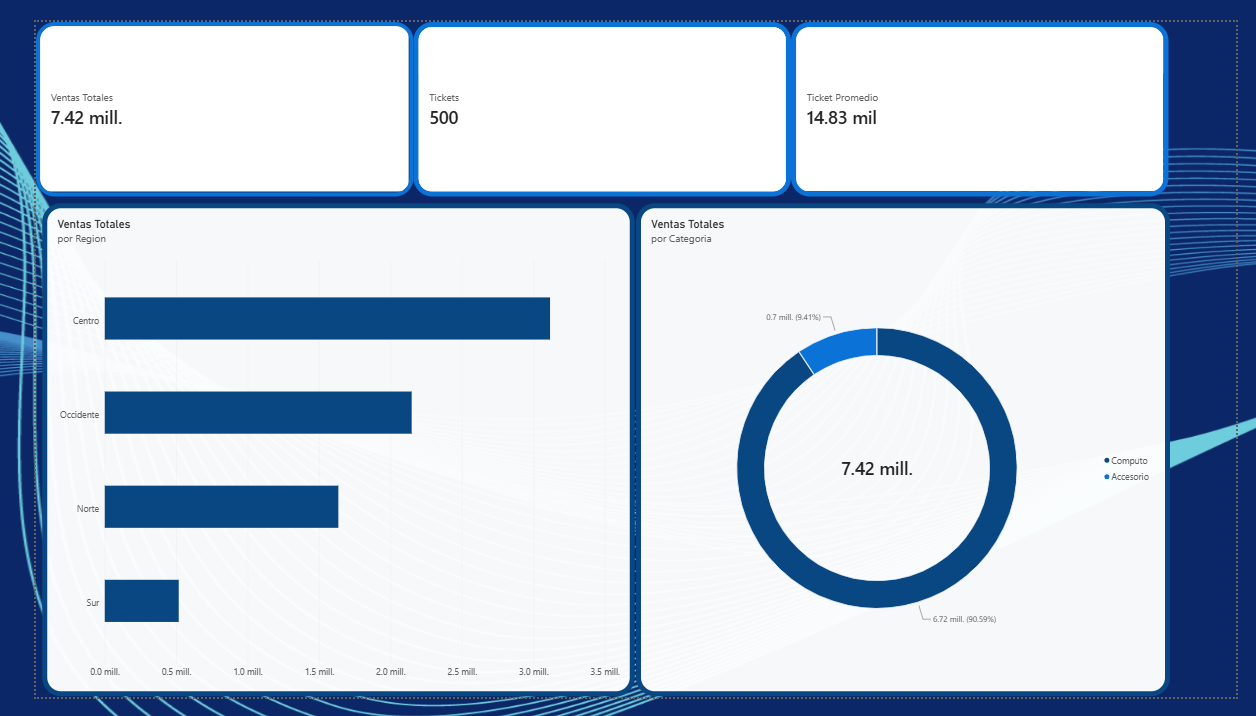

The page's visual inventory and layout, read from the dashboard file:
{"tool":"powerbi","page":{"name":"Resumen Ejecutivo","canvas":[1920,1080],"ordinal":0},"visuals":[{"type":"cardVisual","fields":{"Data":["hechos_ventas.Ventas Totales"]},"box":[0,0,604.3,279.4],"z":0},{"type":"cardVisual","title":"V","fields":{"Data":["hechos_ventas.Tickets"]},"box":[604.4,0,604.3,279.4],"z":1000},{"type":"cardVisual","fields":{"Data":["hechos_ventas.Ticket Promedio"]},"box":[1208.9,0,604.3,279.4],"z":2000},{"type":"barChart","fields":{"Category":["dim_cliente.Region"],"Y":["hechos_ventas.Ventas Totales"]},"box":[10.9,289.5,948.3,789],"z":3000},{"type":"donutChart","fields":{"Category":["dim_producto.Categoria"],"Y":["hechos_ventas.Ventas Totales"]},"box":[959.1,289.5,854.2,789],"z":4000}]}

Visuals, with their boxes in screenshot pixels (x1, y1, x2, y2), scaled from the page's 1920x1080 canvas onto the 1256x716 screenshot:
cardVisual - hechos_ventas.Ventas Totales: x1=0 y1=0 x2=395 y2=185
"V" cardVisual: x1=395 y1=0 x2=791 y2=185
cardVisual - hechos_ventas.Ticket Promedio: x1=791 y1=0 x2=1186 y2=185
barChart - dim_cliente.Region x hechos_ventas.Ventas Totales: x1=7 y1=192 x2=627 y2=715
donutChart - dim_producto.Categoria x hechos_ventas.Ventas Totales: x1=627 y1=192 x2=1186 y2=715
